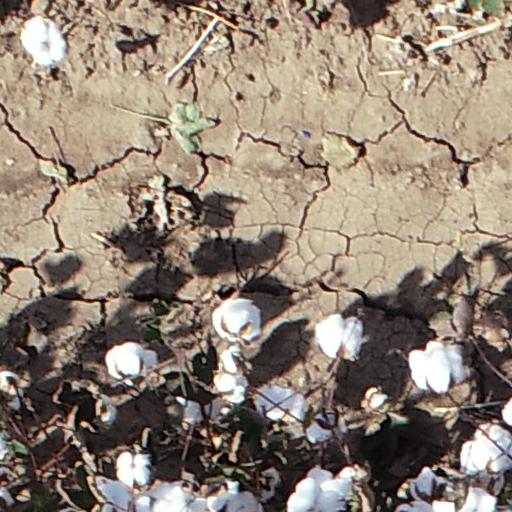Boll: (408, 339, 467, 391), (466, 422, 512, 470), (210, 301, 260, 345), (313, 315, 360, 361), (20, 19, 66, 65), (105, 342, 157, 382), (256, 384, 306, 422), (285, 478, 339, 512), (308, 463, 363, 496), (89, 472, 134, 511), (454, 476, 497, 512), (138, 484, 193, 512), (410, 465, 452, 501), (207, 486, 264, 512), (116, 451, 153, 487), (304, 413, 346, 442), (213, 371, 248, 402), (396, 497, 464, 512), (93, 396, 117, 426), (366, 387, 390, 416), (219, 350, 247, 374), (177, 493, 211, 512), (184, 398, 206, 425), (1, 371, 20, 401), (502, 398, 512, 425)
